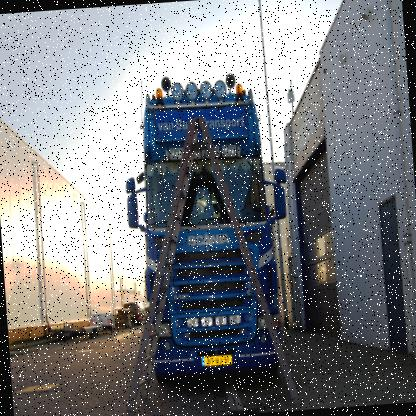Car: (123, 298, 146, 328)
